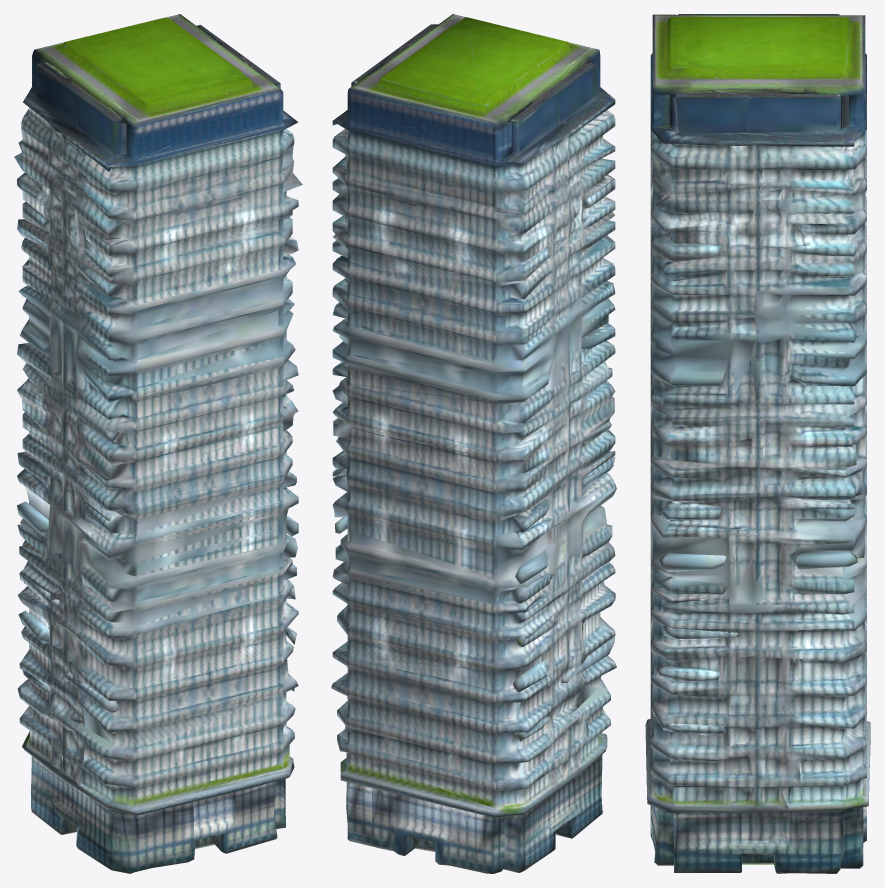
File: skyscraper_large_1.glb
3 views of the same model, side by side, from view 1: azimuth 30°, elevation 25°; view 2: azimuth 150°, elevation 25°; view 3: azimuth 270°, elevation 25° (orthographic). The views are drawn at different scales.
Size of the model in its own units: 0.5049 by 1.91 by 0.4932.
Materials: 1 (1 with a texture image).
